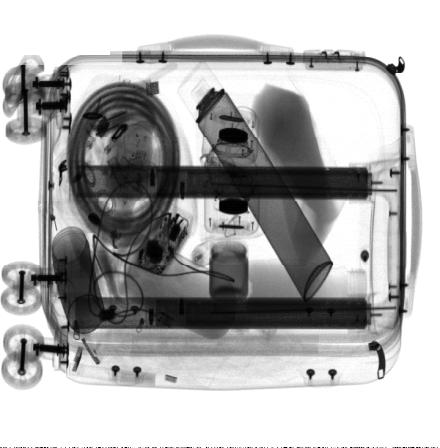Sprayer: (178, 61, 333, 301)
